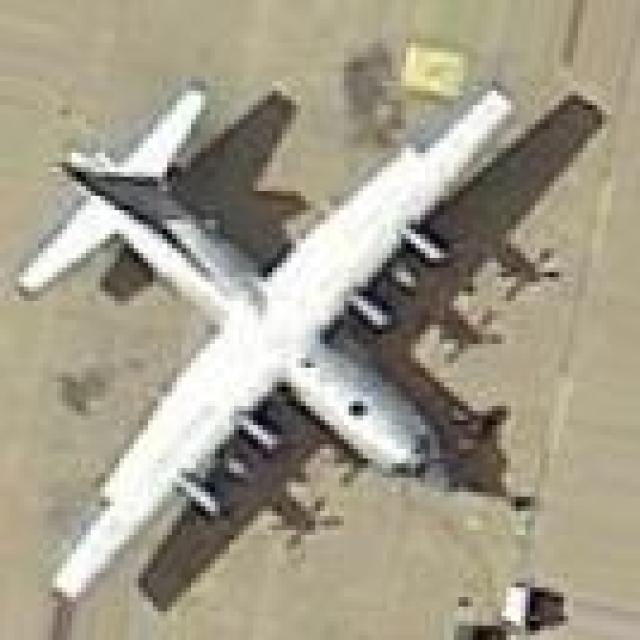C-130_TopDown: (15, 80, 611, 606)
